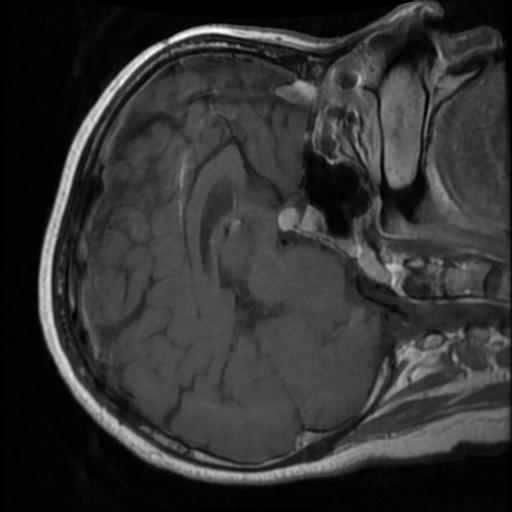pituitary tumour: (276, 203, 322, 235)
